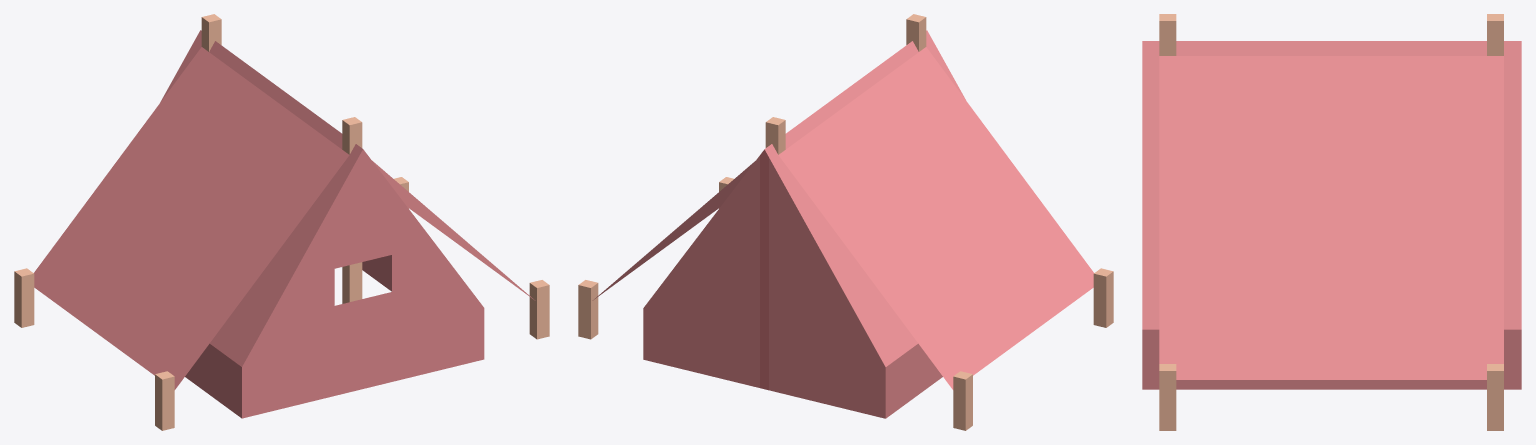
File: tent_detailedClosed.glb
3 views of the same model, side by side, from view 1: azimuth 30°, elevation 25°; view 2: azimuth 150°, elevation 25°; view 3: azimuth 270°, elevation 25° (orthographic). The views are drawn at different scales.
Parts seen in each view (by area): view 1: tent_detailedClosed; view 2: tent_detailedClosed; view 3: tent_detailedClosed.
Boxes of the visible parts, x1,y1,x2,y2 form: tent_detailedClosed: (14, 14, 549, 430); tent_detailedClosed: (578, 14, 1113, 430); tent_detailedClosed: (1142, 14, 1521, 430).
Bounding box in the file's own units: 0.8749 × 0.5611 × 0.6364.
Materials: 1 (1 with a texture image).
